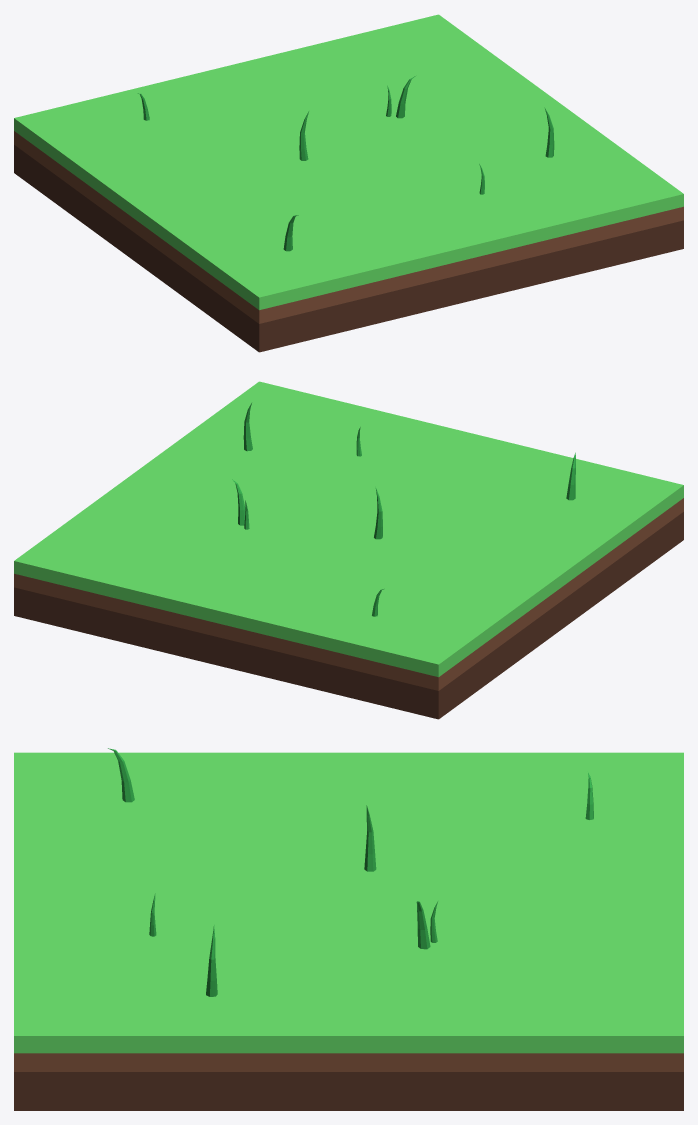
Rendered from grass-tile.fbx.
3 renders of one model, top to bottom at view 1: azimuth 30°, elevation 25°; view 2: azimuth 150°, elevation 25°; view 3: azimuth 270°, elevation 25°, orthographic. The views are drawn at different scales.
Visible parts, largest first — view 1: Grass Tile; view 2: Grass Tile; view 3: Grass Tile.
Part boxes in pixels (x1,y1,x2,y2): Grass Tile: (14, 14, 683, 352); Grass Tile: (14, 381, 683, 719); Grass Tile: (14, 748, 683, 1110).
Size of the model in its own units: 400 by 93.92 by 400.
